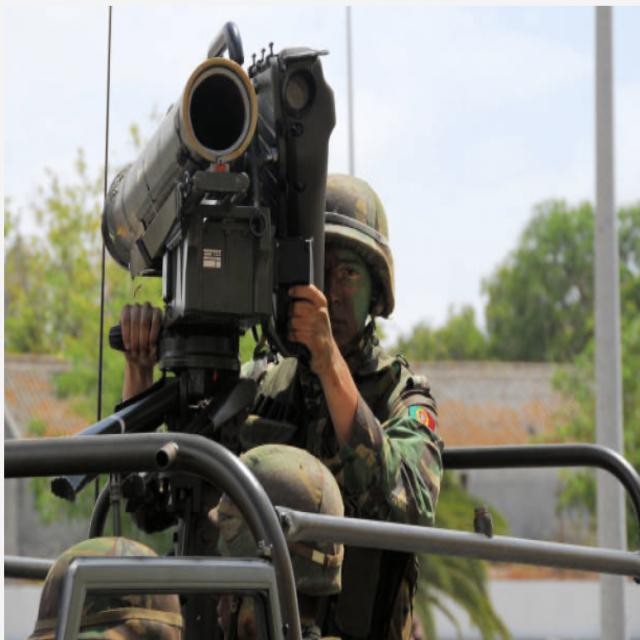bazooka: (90, 27, 355, 394)
